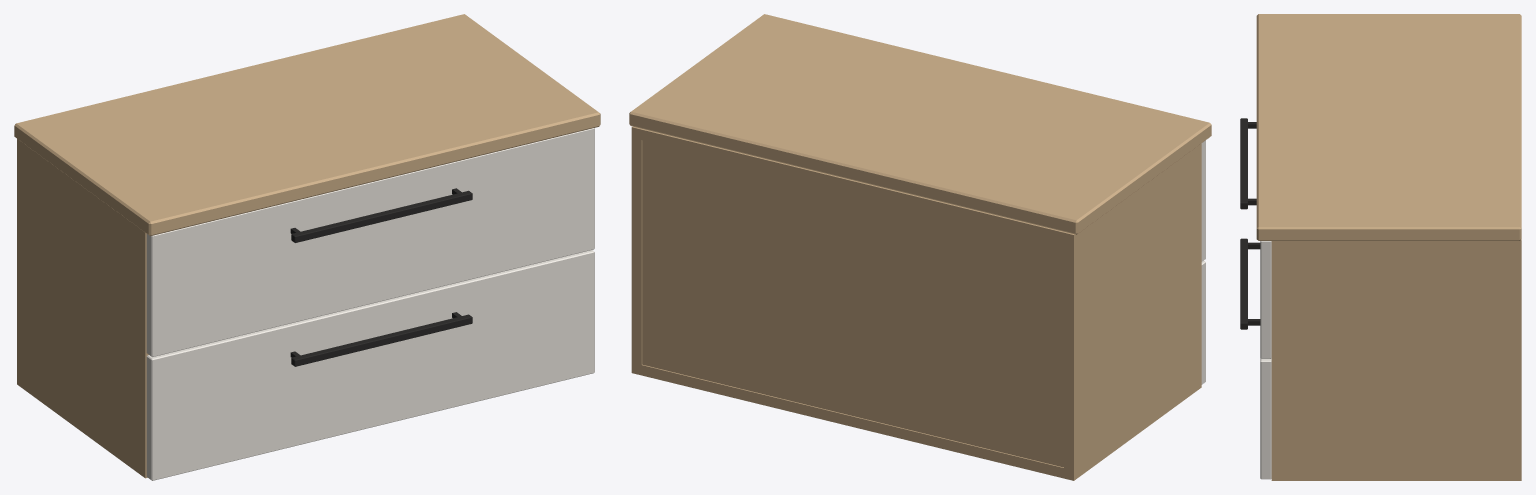
File: 34_komoda_wiszaca_80.glb
The picture shows the model from 3 angles, left to right: view 1: azimuth 30°, elevation 25°; view 2: azimuth 150°, elevation 25°; view 3: azimuth 270°, elevation 25°; orthographic projection. The views are drawn at different scales.
Visible parts, largest first — view 1: Wierzch, Front_szuflada_2, Front_szuflada_1, Korpus, Uchwyty; view 2: Korpus, Wierzch, Front_szuflada_2; view 3: Wierzch, Korpus, Uchwyty, Front_szuflada_2, Front_szuflada_1.
Part boxes in pixels (x1,y1,x2,y2): Wierzch: [14, 14, 600, 236]; Front_szuflada_2: [146, 250, 594, 480]; Front_szuflada_1: [146, 128, 594, 356]; Korpus: [17, 139, 148, 478]; Uchwyty: [290, 188, 472, 366]; Korpus: [631, 126, 1201, 480]; Wierzch: [629, 14, 1211, 234]; Front_szuflada_2: [1201, 261, 1205, 384]; Wierzch: [1256, 14, 1521, 240]; Korpus: [1271, 239, 1521, 480]; Uchwyty: [1240, 118, 1260, 329]; Front_szuflada_2: [1260, 358, 1271, 479]; Front_szuflada_1: [1260, 241, 1271, 358].
Size of the model in its own units: 0.812 by 0.45 by 0.45.
